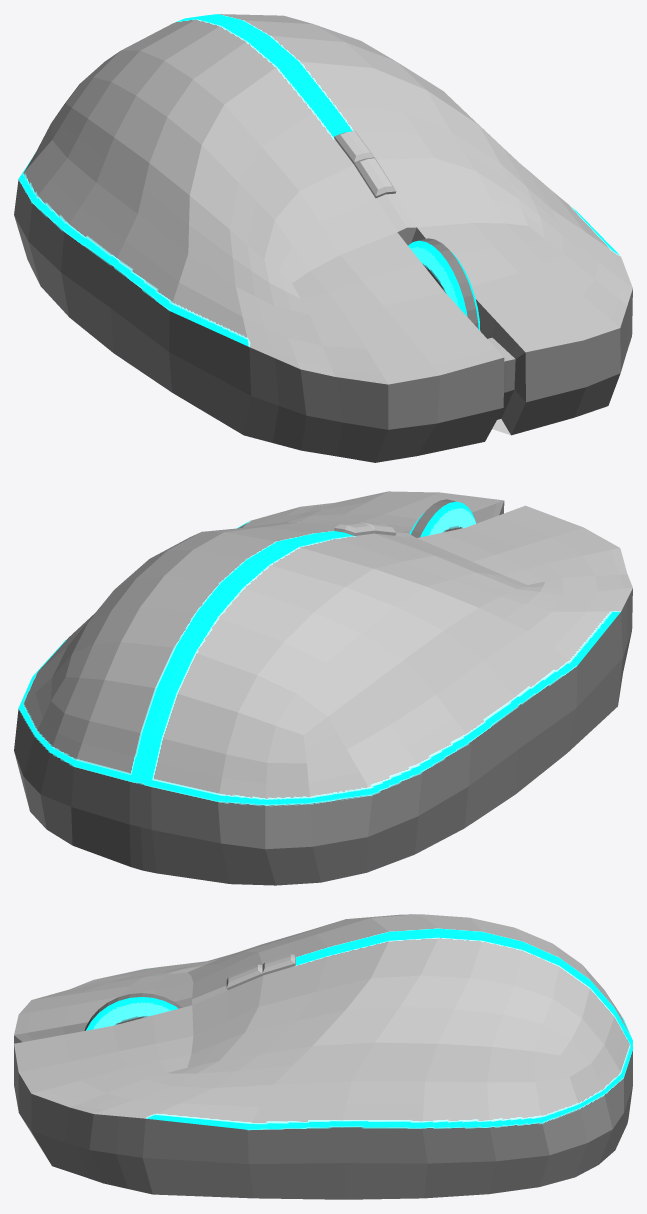
Rendered from Mouse4.fbx.
The picture shows the model from 3 angles, top to bottom: view 1: azimuth 30°, elevation 25°; view 2: azimuth 150°, elevation 25°; view 3: azimuth 270°, elevation 25°; orthographic projection. The views are drawn at different scales.
Parts seen in each view (by area): view 1: Mouse4; view 2: Mouse4; view 3: Mouse4.
Boxes of the visible parts, box(x1,y1,x2,y2) form: Mouse4: box(14, 14, 632, 462); Mouse4: box(14, 491, 632, 885); Mouse4: box(14, 914, 632, 1199).
Size of the model in its own units: 159 by 84.21 by 252.
